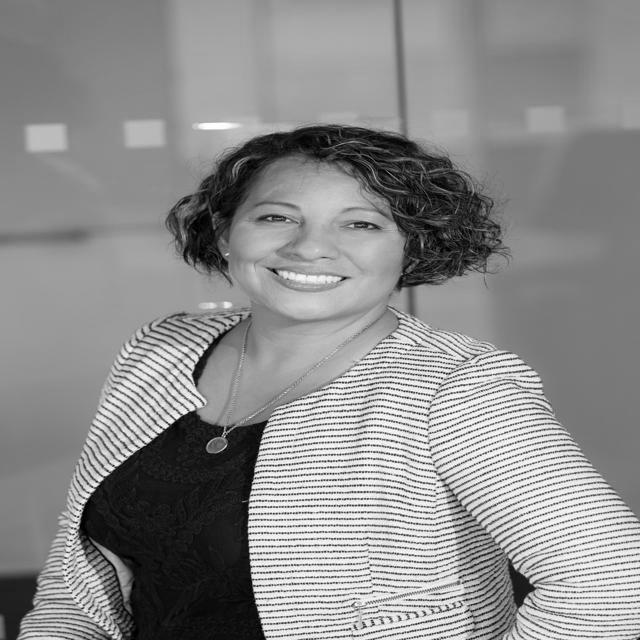Happiness: (217, 152, 410, 325)
